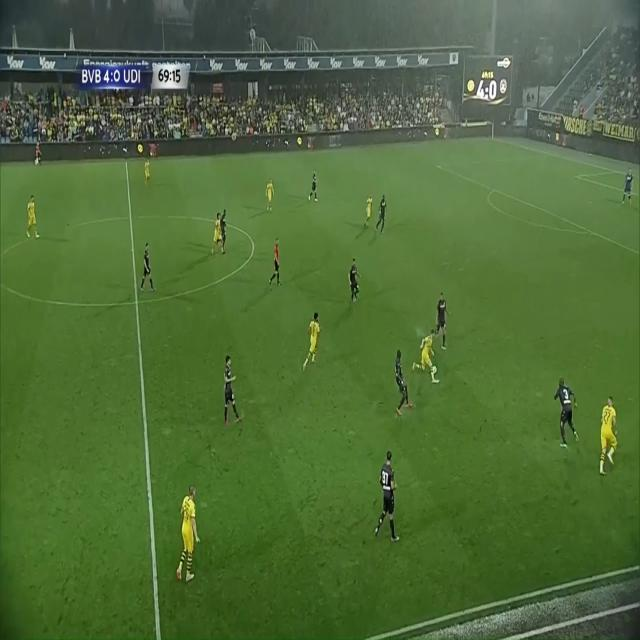ball: (431, 362, 439, 379)
goalkeeper: (621, 166, 637, 214)
player: (177, 484, 209, 603), (374, 443, 406, 548), (550, 362, 581, 459), (591, 393, 623, 479), (387, 331, 412, 424), (220, 349, 247, 433), (301, 307, 327, 382), (134, 244, 162, 301), (344, 256, 368, 317), (433, 286, 454, 355), (415, 318, 433, 395), (24, 185, 44, 252), (261, 175, 279, 218), (307, 164, 323, 212), (359, 189, 375, 232), (210, 210, 222, 259), (377, 192, 388, 234), (221, 210, 232, 251), (143, 152, 153, 188)
referee: (267, 235, 288, 295), (33, 136, 42, 166)
